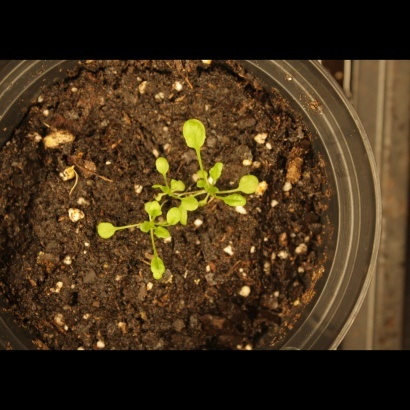leaf: (178, 114, 211, 149), (235, 170, 267, 197), (146, 251, 170, 285), (95, 219, 122, 247), (223, 193, 255, 216), (152, 156, 175, 179), (140, 197, 163, 220), (156, 226, 179, 249), (131, 221, 154, 244), (160, 206, 183, 229), (181, 194, 204, 217), (210, 162, 233, 185), (172, 173, 195, 196), (191, 163, 214, 186)
